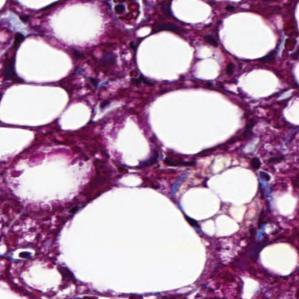inflammation: (90, 44, 129, 83), (245, 150, 282, 186)
